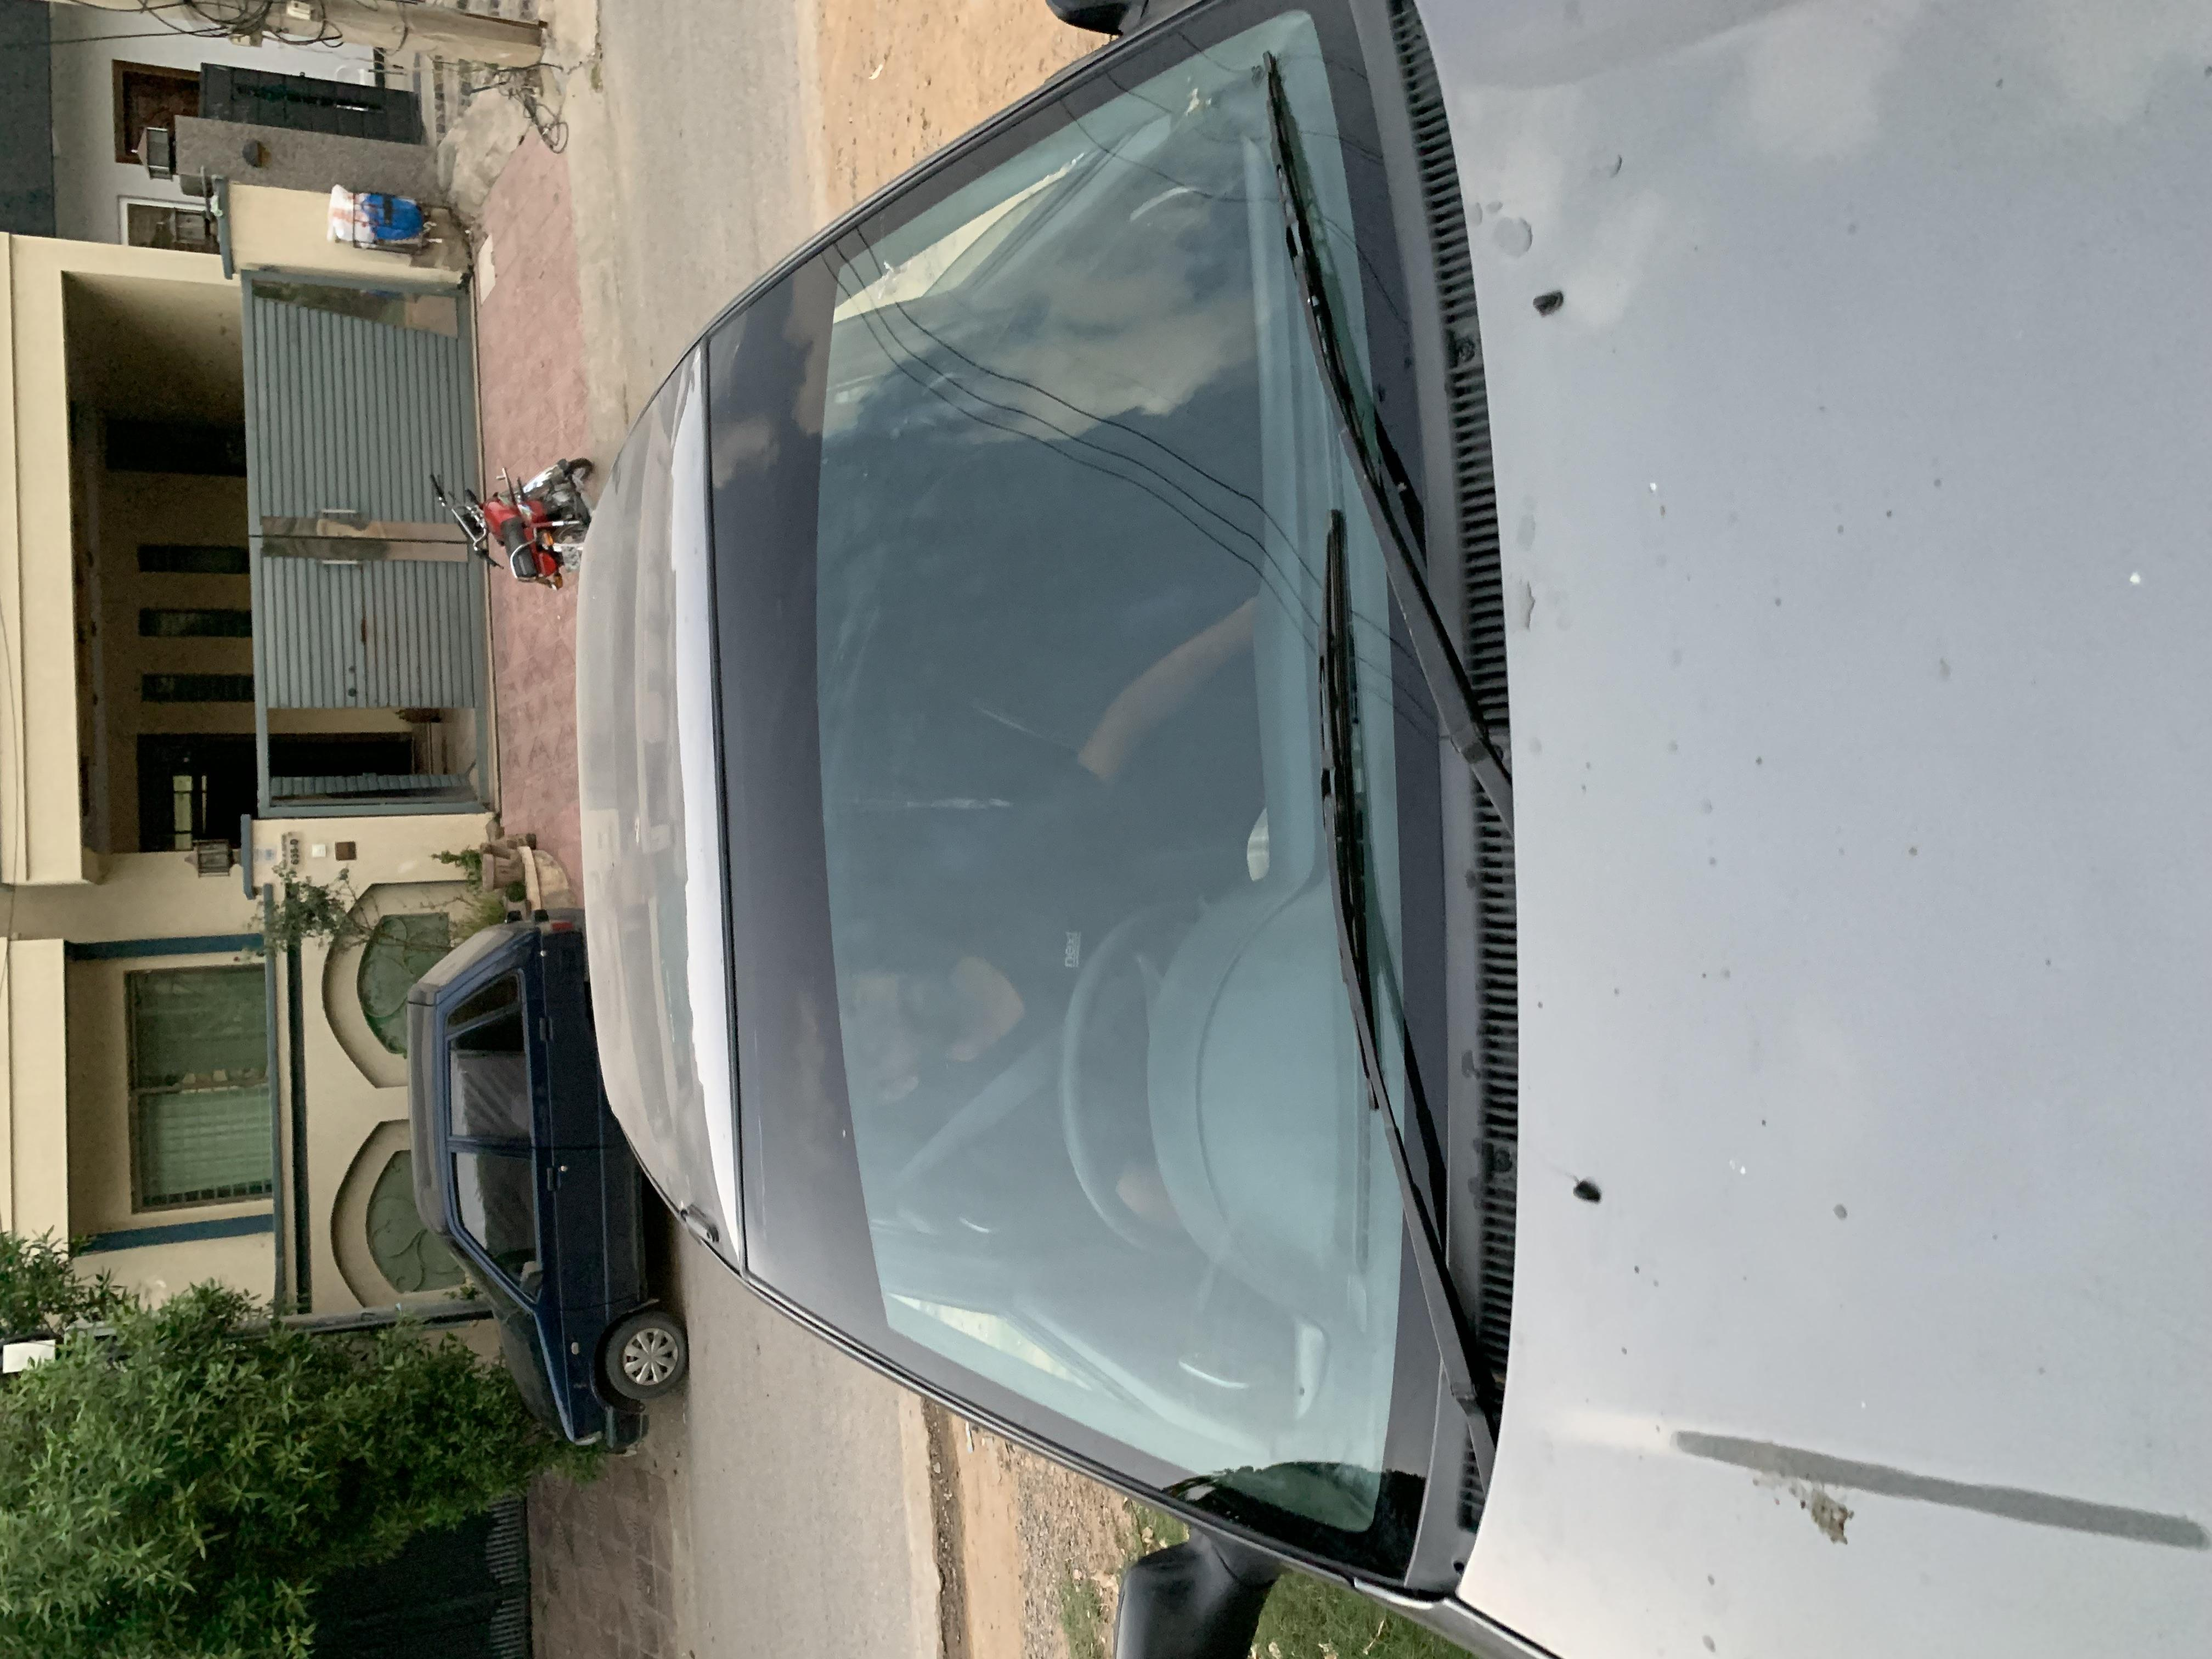windshield: (82, 523, 2212, 1143)
